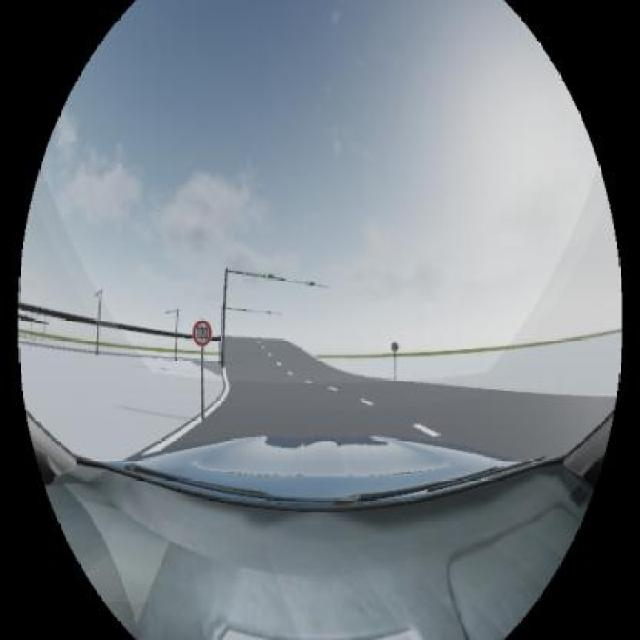forb_speed_over_120: (195, 321, 212, 345)
